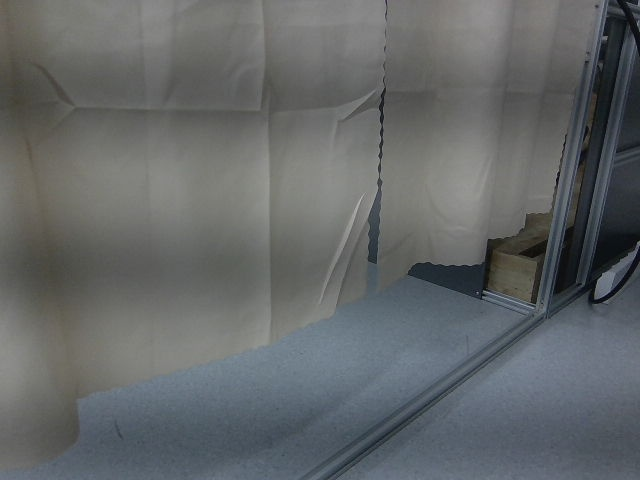curtain: (0, 0, 563, 408)
